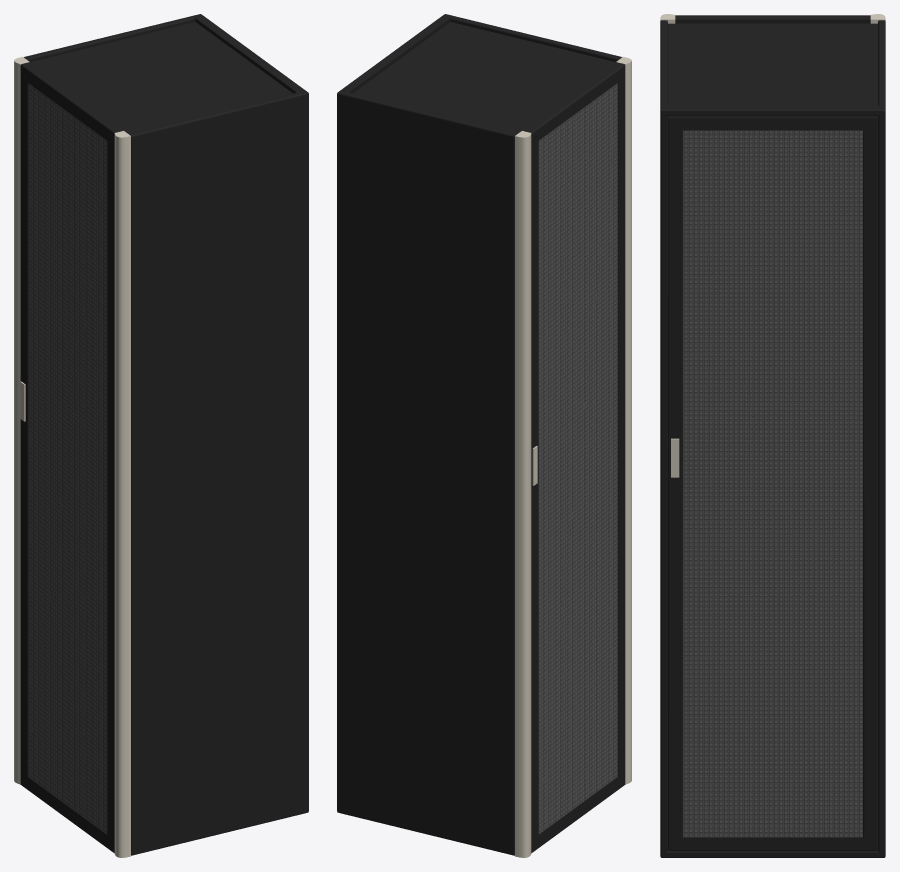
3 views of the same model, side by side, from view 1: azimuth 30°, elevation 25°; view 2: azimuth 150°, elevation 25°; view 3: azimuth 270°, elevation 25° (orthographic). The views are drawn at different scales.
Visible parts, largest first — view 1: 标准机架0.6*0.6*2.2; view 2: 标准机架0.6*0.6*2.2; view 3: 标准机架0.6*0.6*2.2.
Boxes of the visible parts, left/top/right/bottom form: 标准机架0.6*0.6*2.2: left=14, top=14, right=308, bottom=857; 标准机架0.6*0.6*2.2: left=337, top=14, right=631, bottom=857; 标准机架0.6*0.6*2.2: left=660, top=14, right=885, bottom=857.
Bounding box in the file's own units: 608 × 2200 × 600.
Materials: 3 (1 with a texture image).
